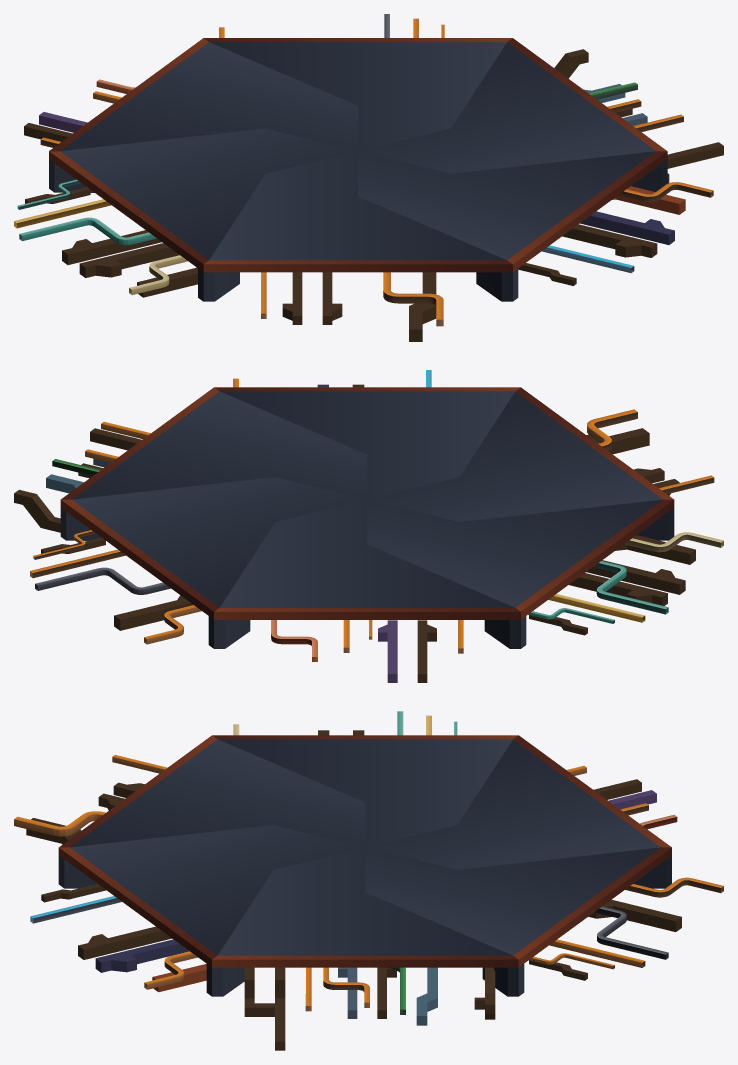
The model's file is hex_plate.fbx.
3 renders of one model, top to bottom at view 1: azimuth 30°, elevation 25°; view 2: azimuth 150°, elevation 25°; view 3: azimuth 270°, elevation 25°, orthographic.
Visible parts, largest first — view 1: Circle.019; view 2: Circle.019; view 3: Circle.019.
Boxes of the visible parts, bbox=[...] form: Circle.019: bbox=[14, 14, 723, 341]; Circle.019: bbox=[14, 370, 723, 682]; Circle.019: bbox=[14, 711, 723, 1050].
Size of the model in its own units: 1792 by 131 by 1737.
